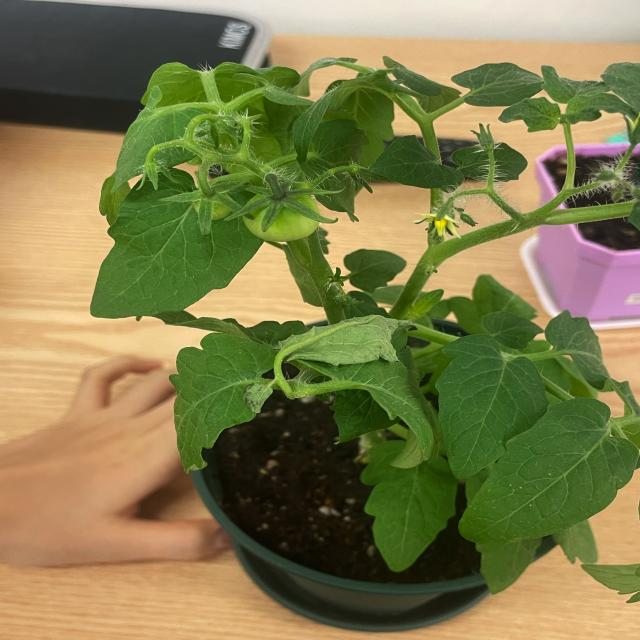level 1: (240, 187, 324, 244), (190, 192, 234, 222)
